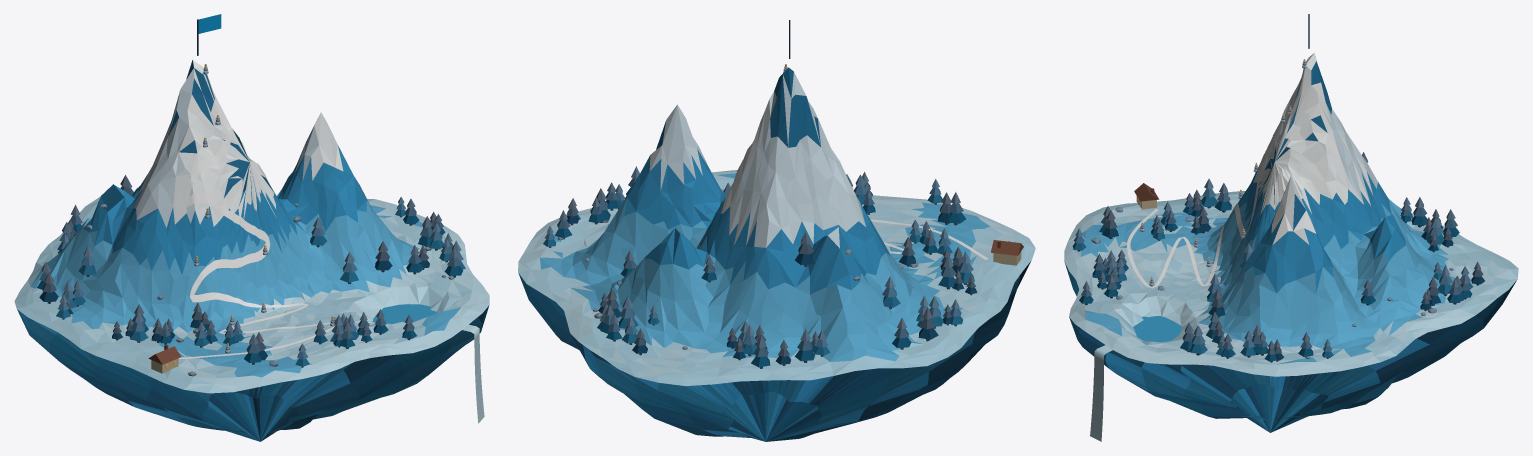
File: summit.glb
3 renders of one model, left to right at view 1: azimuth 30°, elevation 25°; view 2: azimuth 150°, elevation 25°; view 3: azimuth 270°, elevation 25°, orthographic. The views are drawn at different scales.
Visible parts, largest first — view 1: island, underside, pines, trail, lake, waterfall, cabin; view 2: island, underside, pines, cabin; view 3: island, underside, pines, trail, waterfall, lake, cabin.
Part boxes in pixels (x1=…): island: x1=14, y1=59, x2=489, y2=393; underside: x1=17, y1=305, x2=489, y2=441; pines: x1=37, y1=175, x2=465, y2=367; trail: x1=178, y1=63, x2=334, y2=358; lake: x1=372, y1=304, x2=437, y2=324; waterfall: x1=462, y1=324, x2=484, y2=423; cabin: x1=148, y1=344, x2=181, y2=373; island: x1=518, y1=67, x2=1035, y2=386; underside: x1=518, y1=261, x2=1030, y2=441; pines: x1=543, y1=166, x2=977, y2=368; cabin: x1=991, y1=240, x2=1023, y2=265; island: x1=1064, y1=53, x2=1518, y2=376; underside: x1=1064, y1=262, x2=1517, y2=432; pines: x1=1072, y1=152, x2=1484, y2=362; trail: x1=1127, y1=57, x2=1309, y2=288; waterfall: x1=1090, y1=345, x2=1112, y2=441; lake: x1=1133, y1=316, x2=1181, y2=342; cabin: x1=1134, y1=183, x2=1159, y2=209.
Size of the model in its own units: 4.98 by 4.88 by 5.04.
